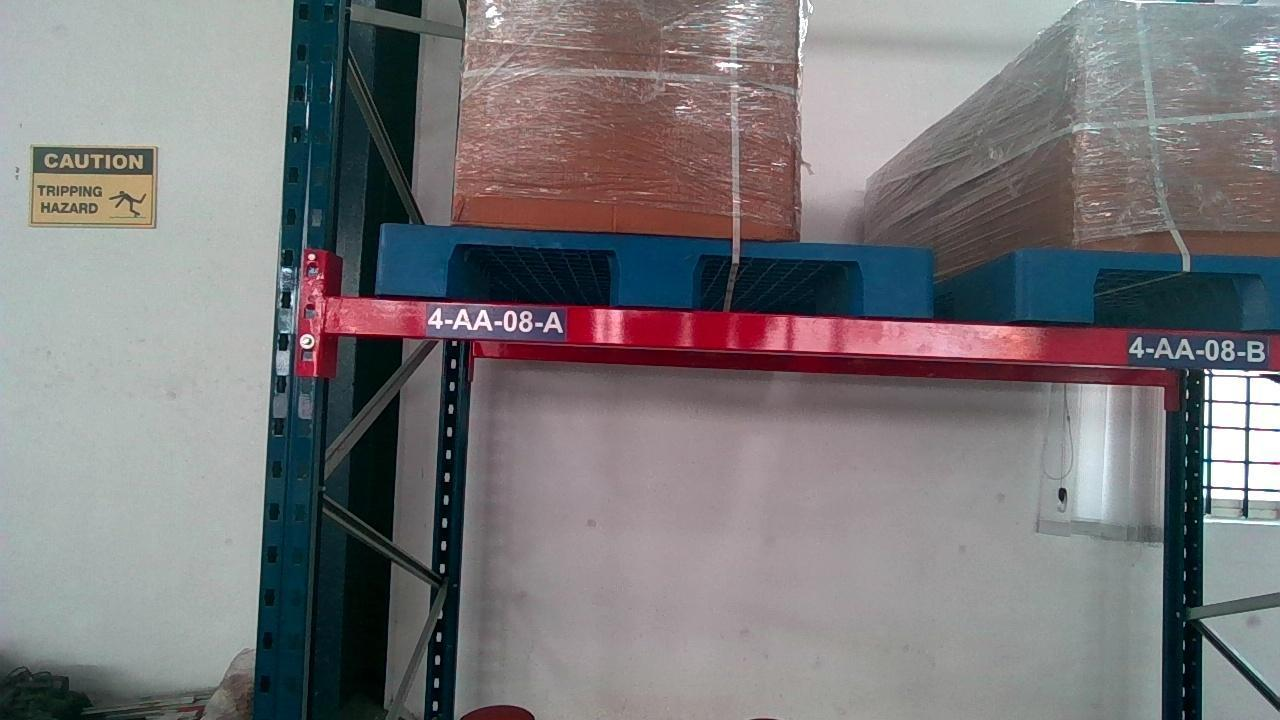h_rack: (333, 303, 1280, 373)
small_pallet: (379, 231, 932, 305), (1022, 251, 1279, 325)
